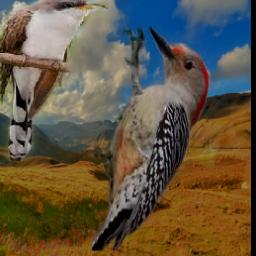Cuckoo: (0, 0, 108, 162)
Woodpecker: (92, 28, 211, 252)
